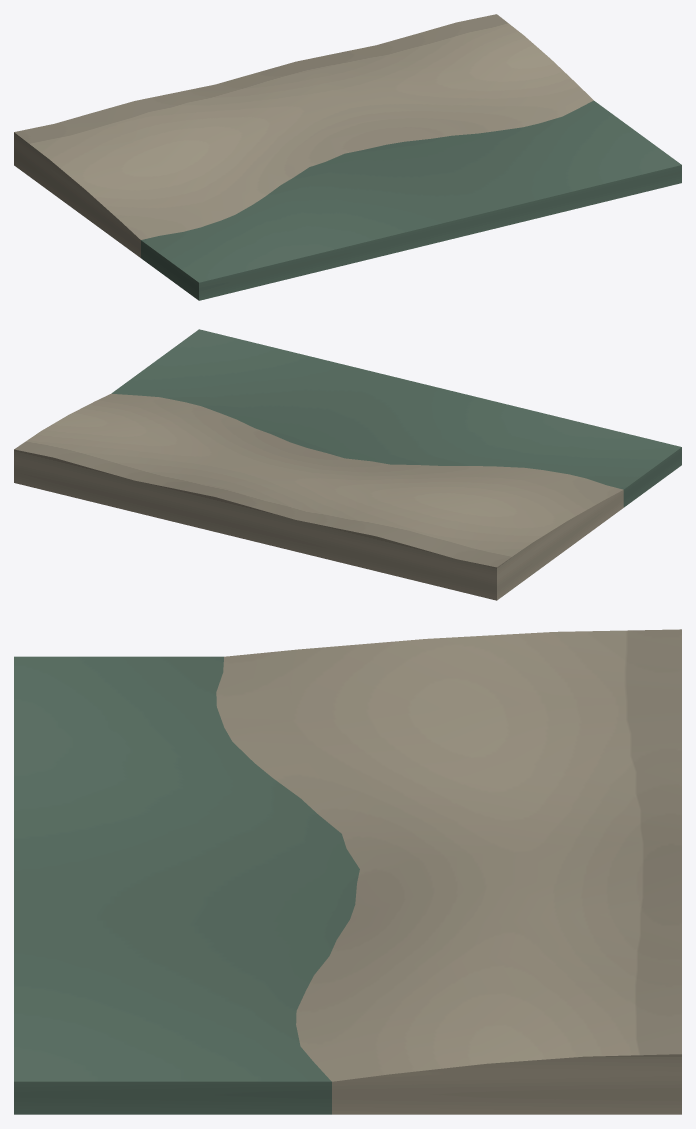
3 views of the same model, one above another, from view 1: azimuth 30°, elevation 25°; view 2: azimuth 150°, elevation 25°; view 3: azimuth 270°, elevation 25° (orthographic). The views are drawn at different scales.
Visible parts, largest first — view 1: cove; view 2: cove; view 3: cove.
Part boxes in pixels (box(x1,y1,x2,y2)): cove: box(14, 14, 681, 300); cove: box(14, 329, 681, 600); cove: box(14, 629, 681, 1114).
Bounding box in the file's own units: 6.5 × 0.4499 × 4.32.
1 material, 1 textured.
